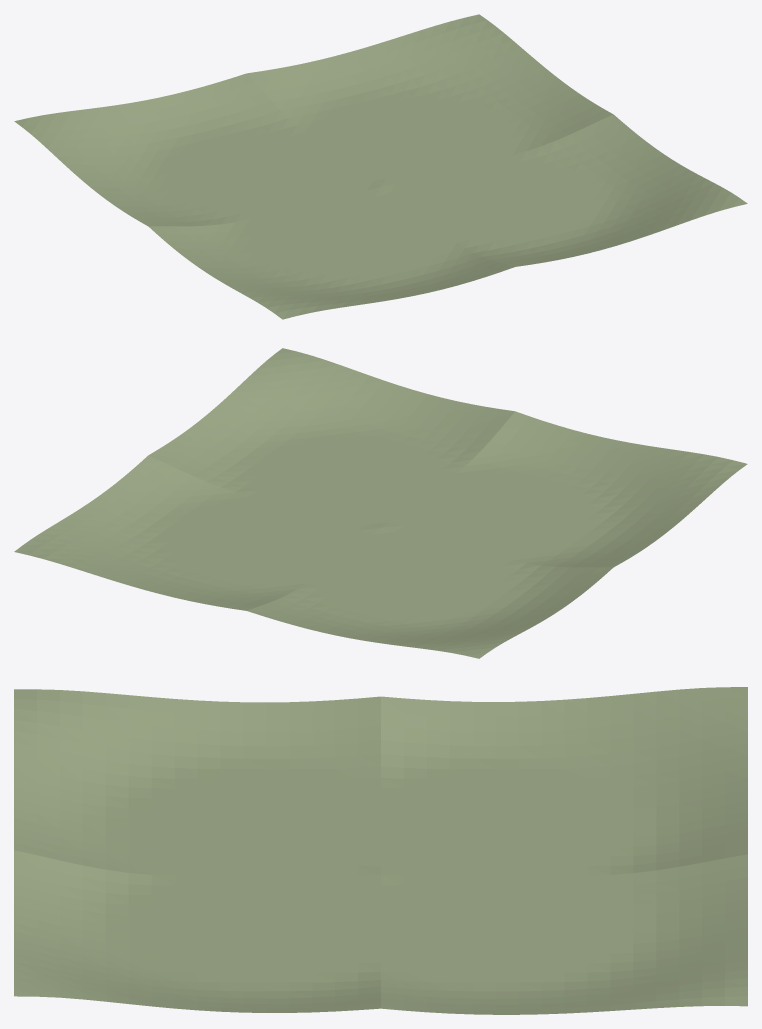
Rendered from gardens-6-0.glb.
3 renders of one model, top to bottom at view 1: azimuth 30°, elevation 25°; view 2: azimuth 150°, elevation 25°; view 3: azimuth 270°, elevation 25°, orthographic. The views are drawn at different scales.
Visible parts, largest first — view 1: gardens-6-0; view 2: gardens-6-0; view 3: gardens-6-0.
Boxes of the visible parts, left/top/right/bottom form: gardens-6-0: left=14, top=14, right=747, bottom=319; gardens-6-0: left=14, top=348, right=747, bottom=658; gardens-6-0: left=14, top=687, right=747, bottom=1014.
Bounding box in the file's own units: 256 × 13.28 × 256.
